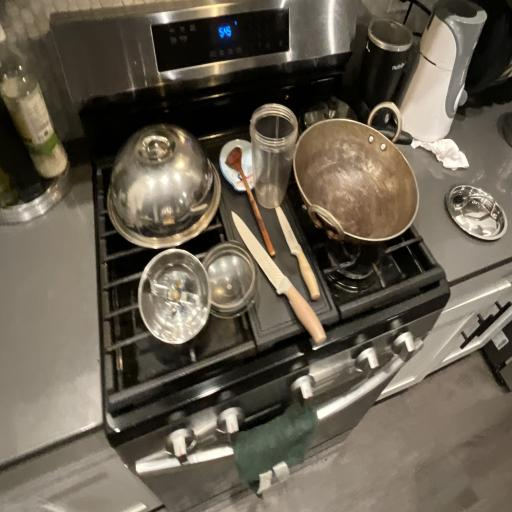Pan: (280, 94, 429, 254)
Stove: (91, 26, 439, 406)
knife: (222, 196, 332, 346), (257, 201, 335, 308)
